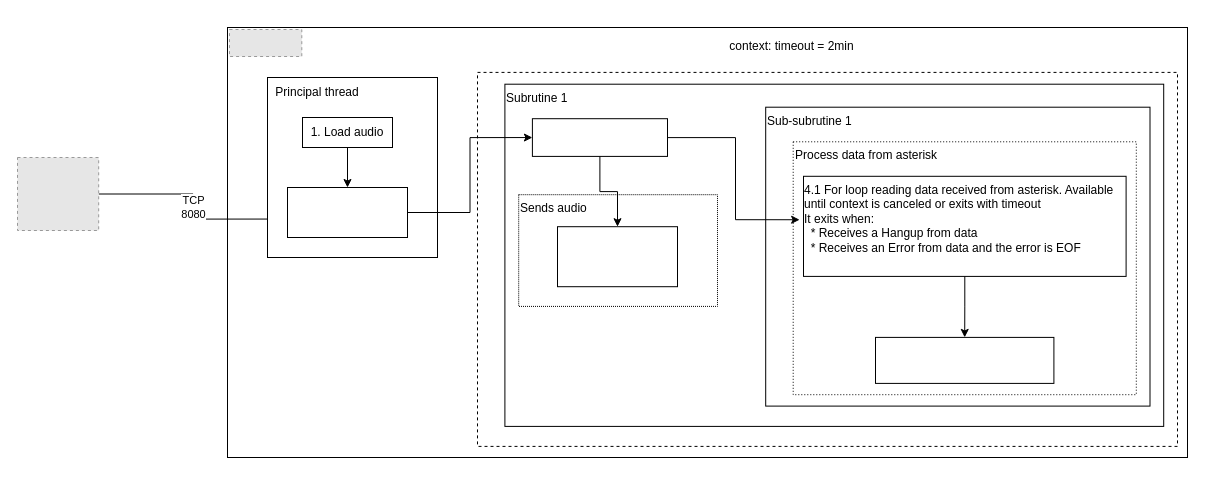
Image size: 1205x492. Some labels were removed from this diagram. Grey dashed boxes stand in for pictures. The shapes that lost their labels are listed below. From the top down, each one's centre as x and y in pixels, then its label:
At [599,137]: "3. Get and print callerID".
At [347,212]: "2. Listen on port".
At [617,256]: "4.2 Writes audio messages in channel".
At [964,359]: "5.1 Cancels context".
